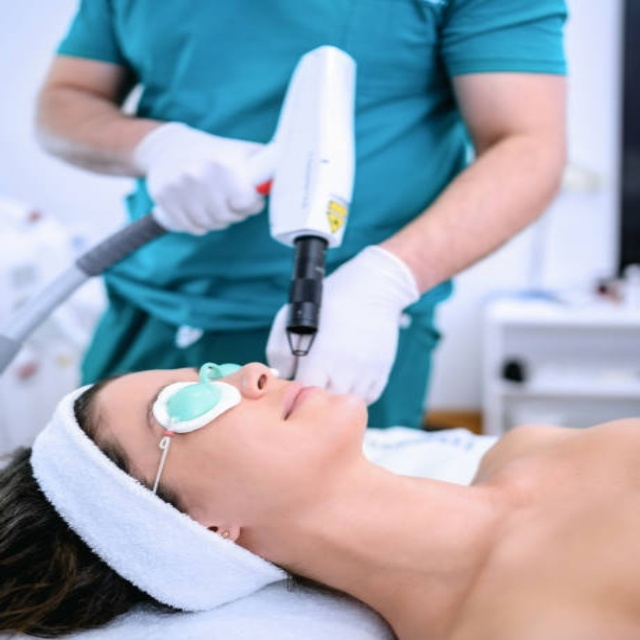Guantes: (266, 244, 422, 407), (133, 123, 273, 238)
Sin_mascara: (269, 374, 367, 439)
